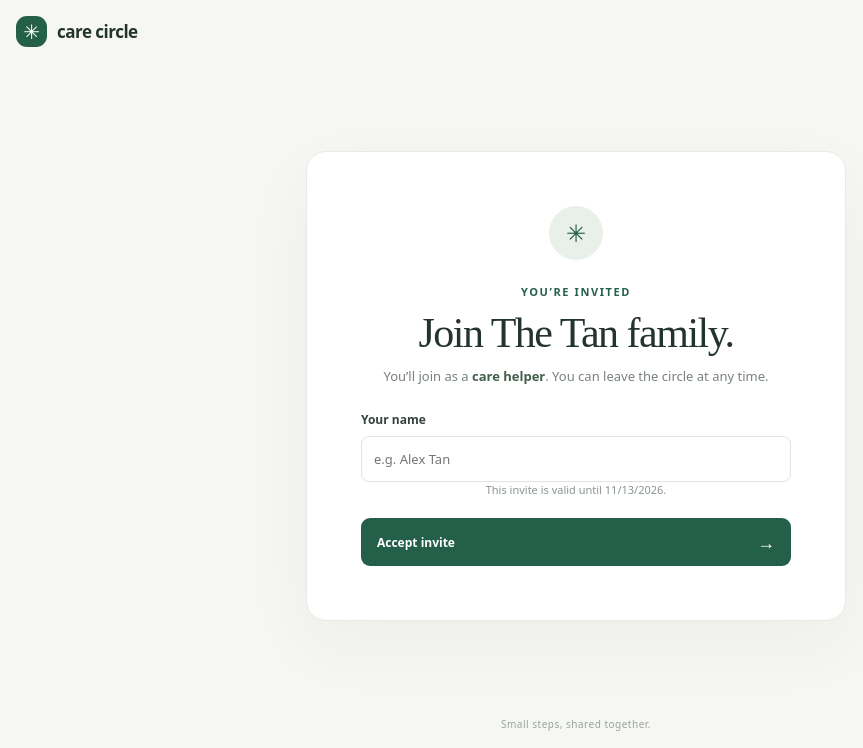
Scenario: invite flow › previews the invited role and accepts the invite
Check: the heading "Join The Tan family." is shown, box [418,310,734,356]
Check: the text "care helper" is shown, box [472,367,545,385]
Type "Rina" into the field labelled "Your name". click: (576,459)
box: [361,436,791,482]
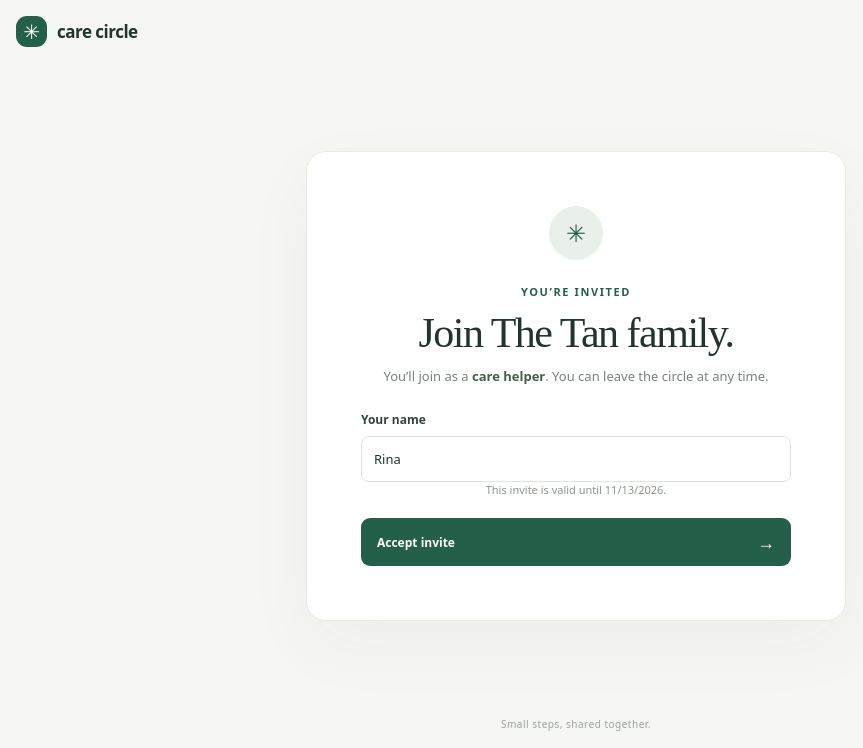
Click the button "Accept invite →". click: (416,542)
box: [361,518,791,566]
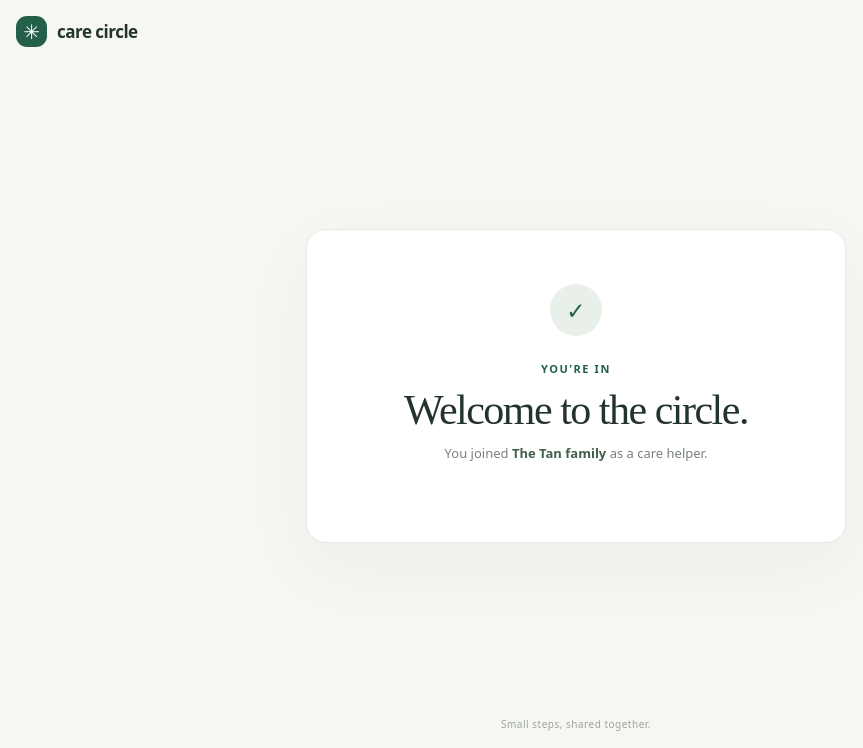
Check: the heading "Welcome to the circle." is shown, box [404,387,748,433]
